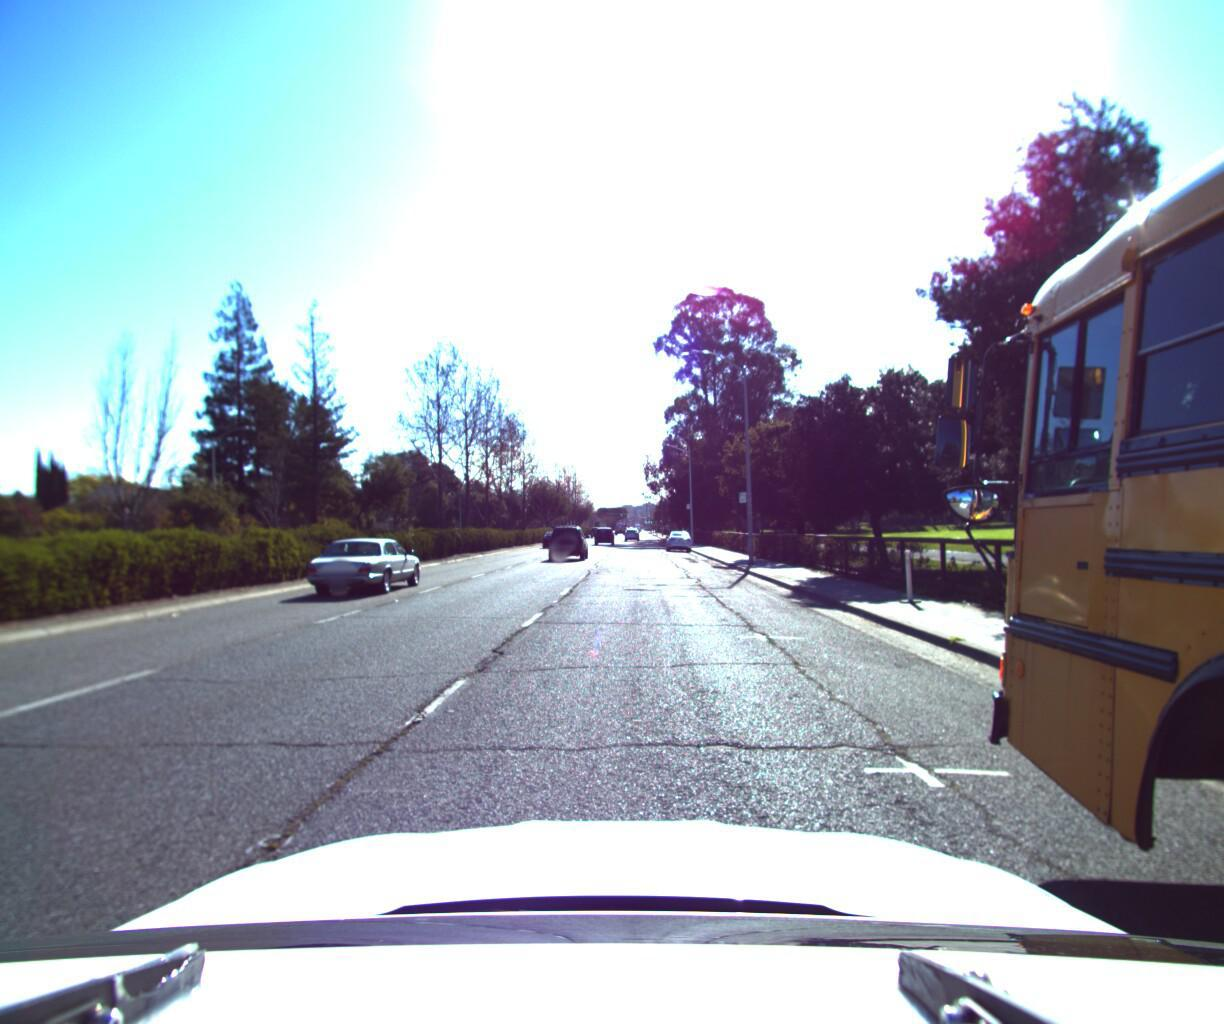car: (296, 530, 434, 598), (0, 533, 27, 607), (543, 519, 590, 558), (667, 525, 695, 547), (591, 526, 617, 545)
